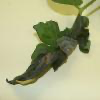Potato leaf late blight: (6, 13, 92, 88)
